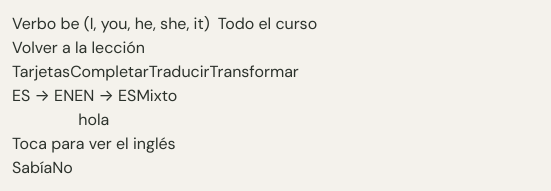
it: StudyPracticeDesk › still shows the item in EN → ES after ES → EN is caught up
This screenshot has width=551, height=191.
Click the button "hola Toca para ver el inglés". click: (94, 132)
box: [12, 108, 176, 156]
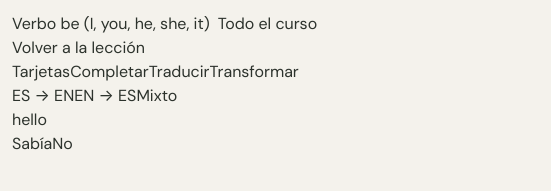
Click the button "Sabía". click: (32, 144)
box: [12, 132, 52, 156]
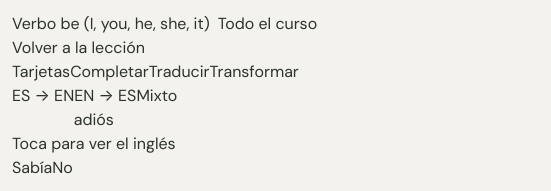
Click the button "adiós Toca para ver el inglés". click: (94, 132)
box: [12, 108, 176, 156]
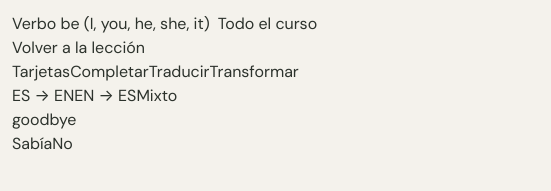
Click the button "Sabía". click: (32, 144)
box: [12, 132, 52, 156]
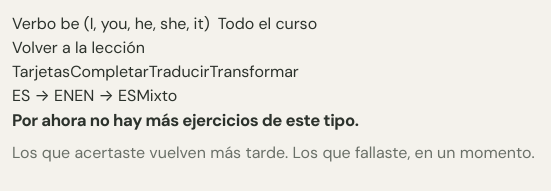
Click the button "EN → ES". click: (105, 96)
box: [74, 84, 136, 108]
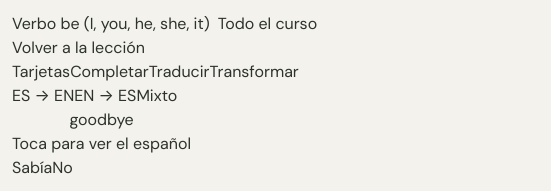
Result: the text "goodbye" is shown at [69, 109, 134, 130]
